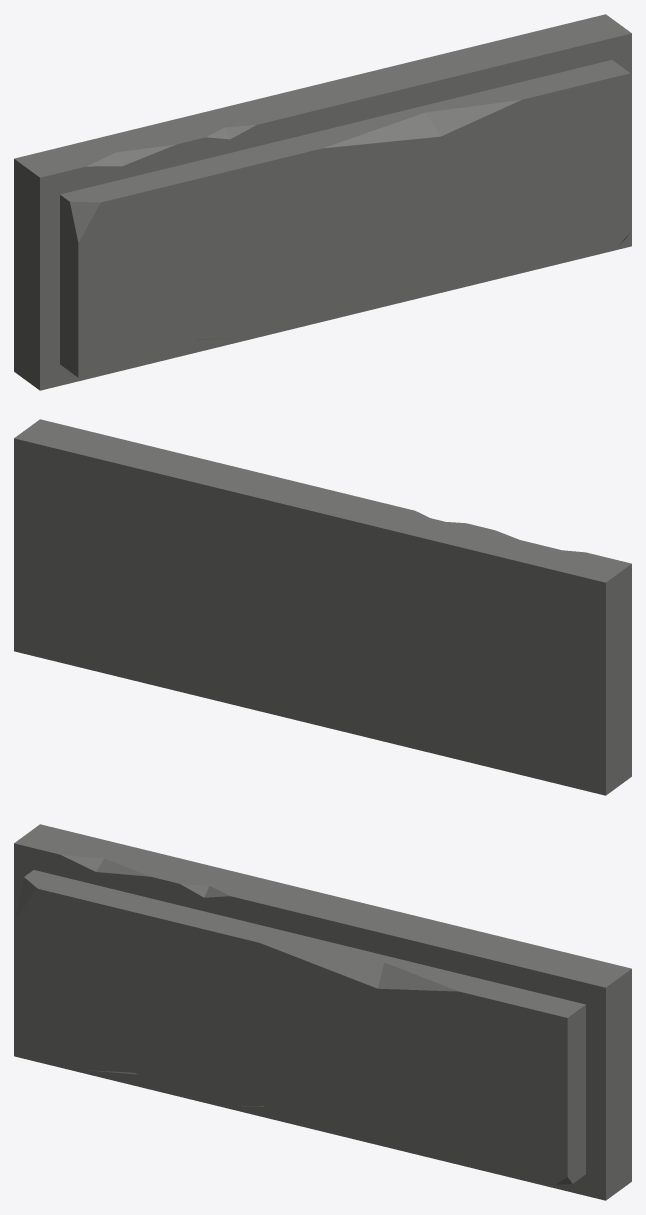
Rendered from SM_Prop_Sign_Attachment_01.glb.
3 renders of one model, top to bottom at view 1: azimuth 30°, elevation 25°; view 2: azimuth 150°, elevation 25°; view 3: azimuth 330°, elevation 25°, orthographic.
Visible parts, largest first — view 1: SM_Prop_Sign_Attachment_01; view 2: SM_Prop_Sign_Attachment_01; view 3: SM_Prop_Sign_Attachment_01.
Boxes of the visible parts, bbox=[...] form: SM_Prop_Sign_Attachment_01: bbox=[14, 14, 631, 390]; SM_Prop_Sign_Attachment_01: bbox=[14, 419, 631, 795]; SM_Prop_Sign_Attachment_01: bbox=[14, 824, 631, 1200].
Bounding box in the file's own units: 0.0251 × 0.00862 × 0.00327.
Materials: 1 (1 with a texture image).
